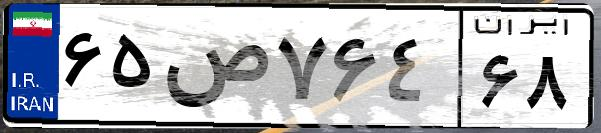4: (385, 28, 445, 110)
5: (110, 28, 158, 98)
6: (330, 28, 385, 110), (57, 26, 110, 100), (475, 38, 525, 113)
7: (270, 28, 330, 110)
8: (525, 38, 570, 115)
ص: (158, 20, 270, 120)
